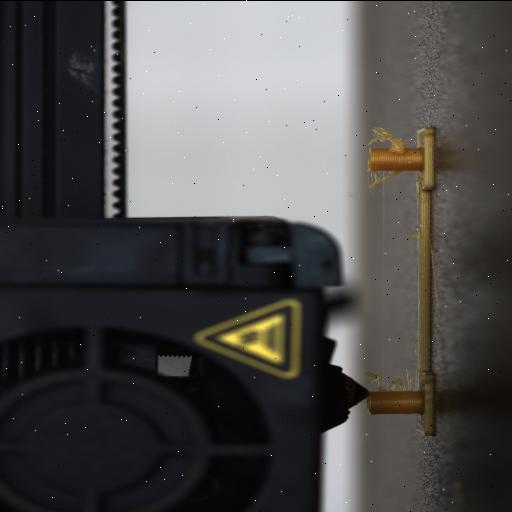stringing: (366, 118, 406, 156), (363, 368, 415, 390), (363, 169, 406, 193)
